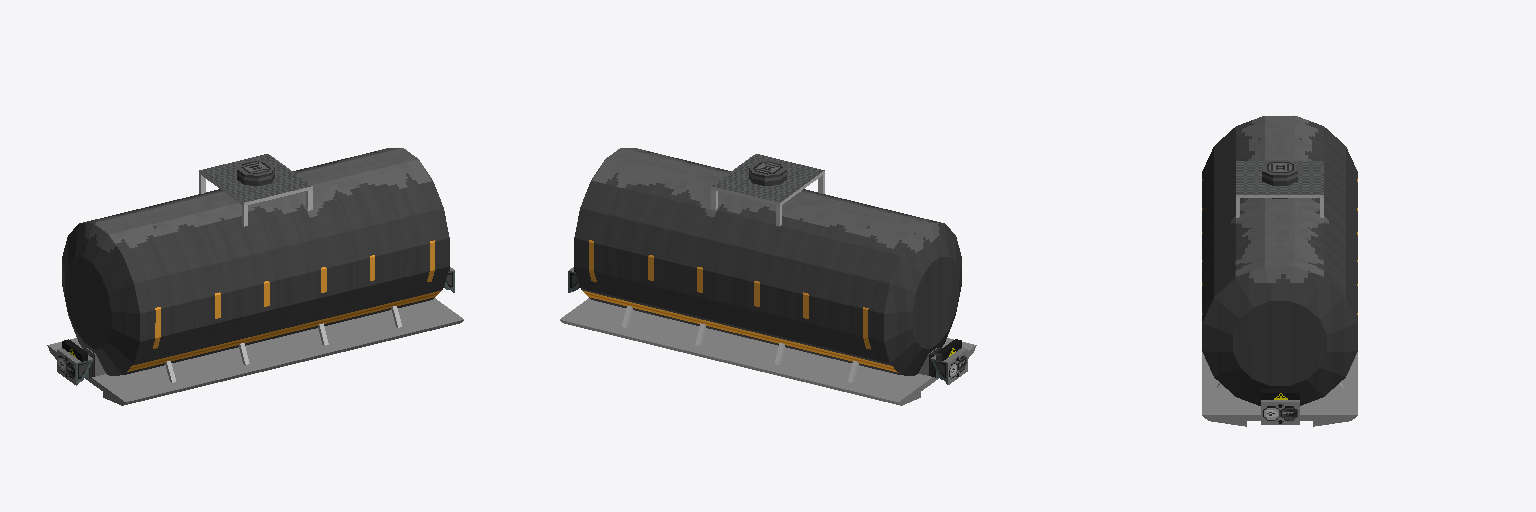
3 views of the same model, side by side, from view 1: azimuth 30°, elevation 25°; view 2: azimuth 150°, elevation 25°; view 3: azimuth 270°, elevation 25° (orthographic).
Visible parts, largest first — view 1: CAB, FRAME; view 2: CAB, FRAME; view 3: CAB, FRAME.
Boxes of the visible parts, x1,y1,x2,y2 form: CAB: [57, 148, 454, 385]; FRAME: [47, 298, 463, 405]; CAB: [568, 148, 967, 384]; FRAME: [560, 298, 976, 405]; CAB: [1202, 116, 1357, 424]; FRAME: [1202, 352, 1357, 426].
Bounding box in the file's own units: 6.71 × 2.98 × 2.4.
6 materials, 2 textured.